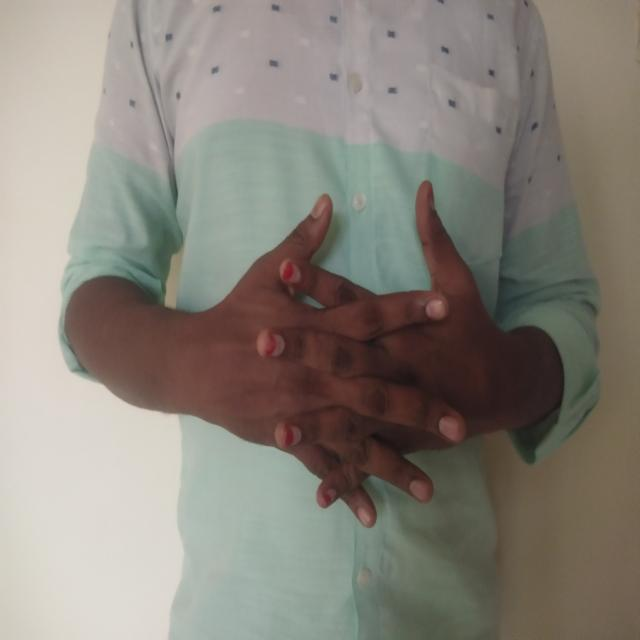W: (220, 174, 502, 535)
